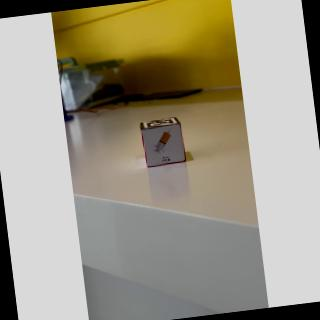Syringe: (144, 126, 190, 169)
